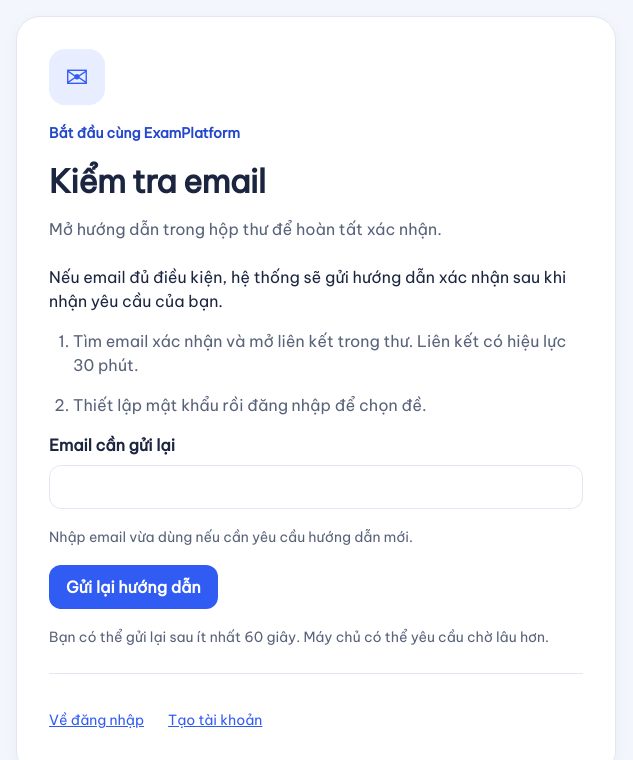
Test case: email resend feedback › does not announce acceptance when the server cannot be reached
In the field labelled "Email cần gửi lại": (316, 487) [49,465,583,509], type "Person@Example.test"
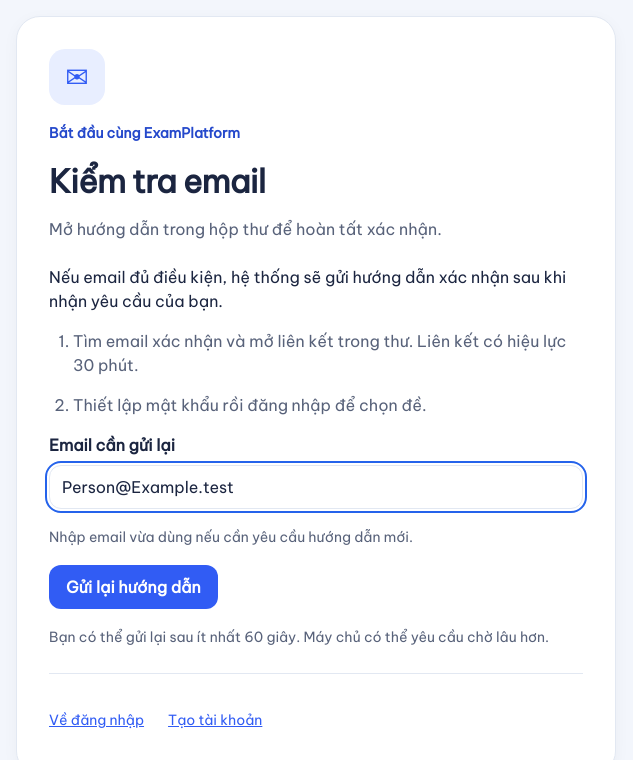
Click the button "Gửi lại hướng dẫn": (133, 587) [49,565,218,609]
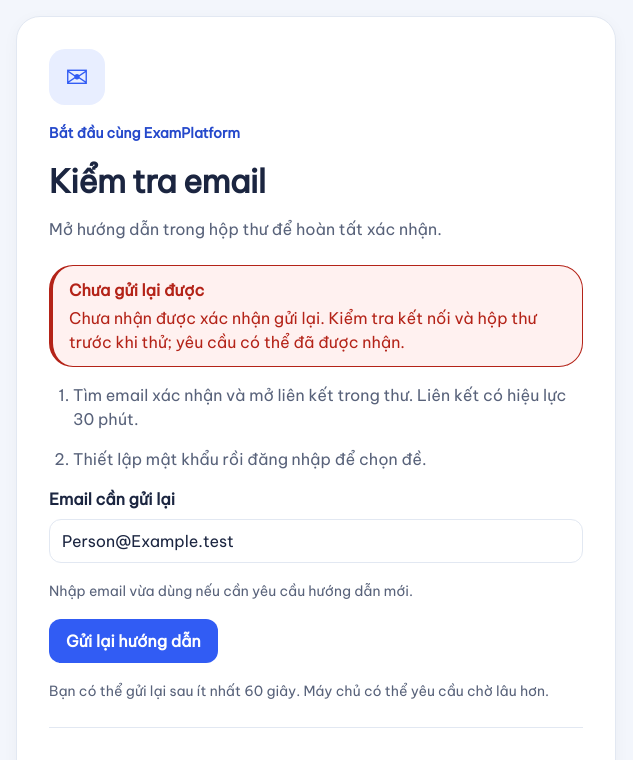
Expected: the button "Gửi lại hướng dẫn" is enabled, [49,619,218,663]
Expected: the message shows "Chưa gửi lại được", [69,280,204,300]
